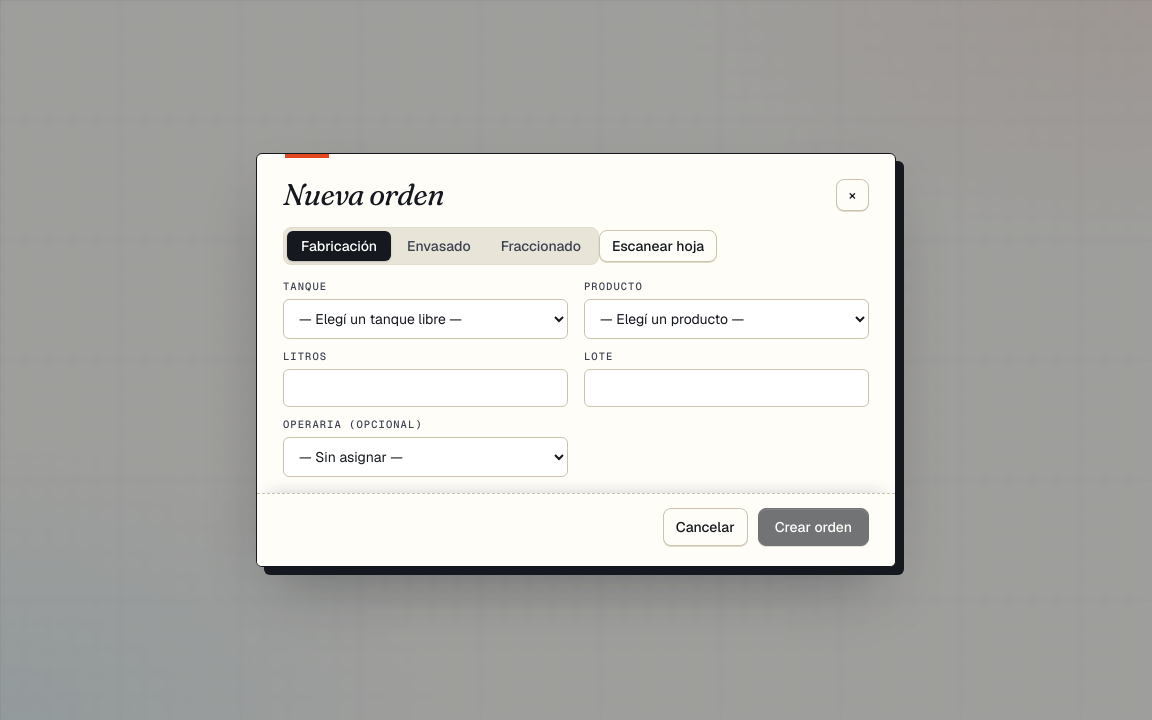
Test: NuevaOrden · fabricación › tanque ocupado por otra orden: mensaje humano
This screenshot has width=1152, height=720.
Select "T-01 · 2000 L" in the dropdown labelled "Tanque" at point(426, 319), box x1=283 y1=299 x2=568 y2=339
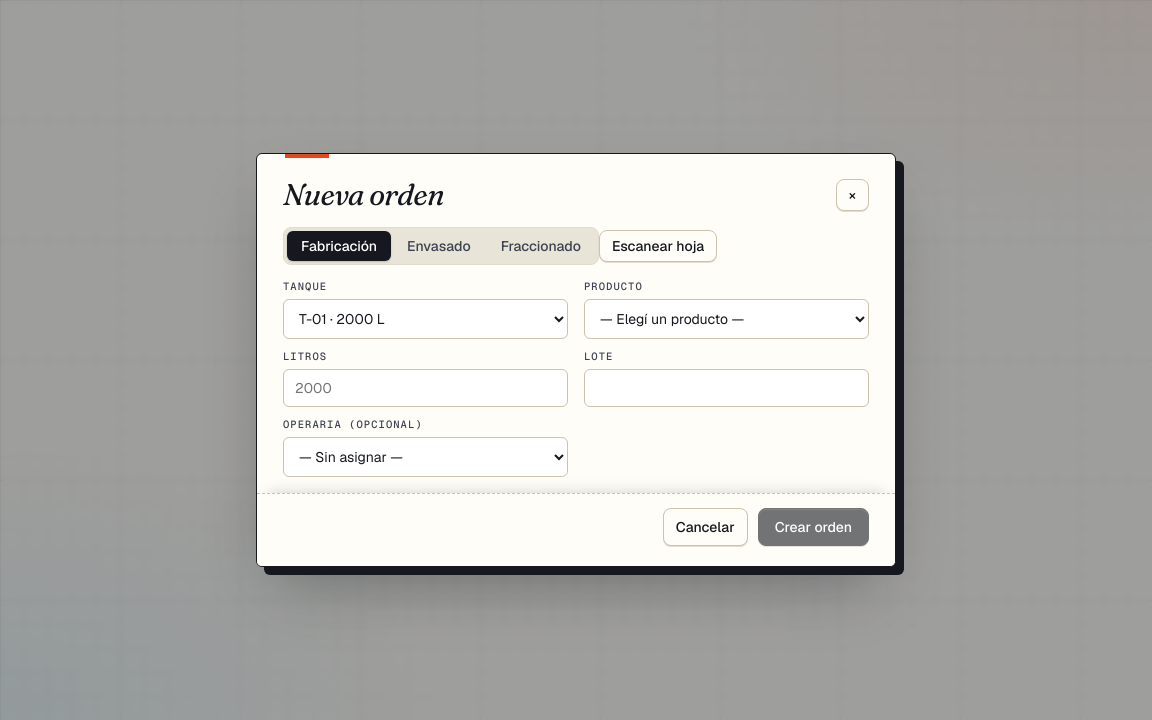
Select "Lavandina" in the dropdown labelled "Producto" at point(726, 319), box x1=584 y1=299 x2=869 y2=339
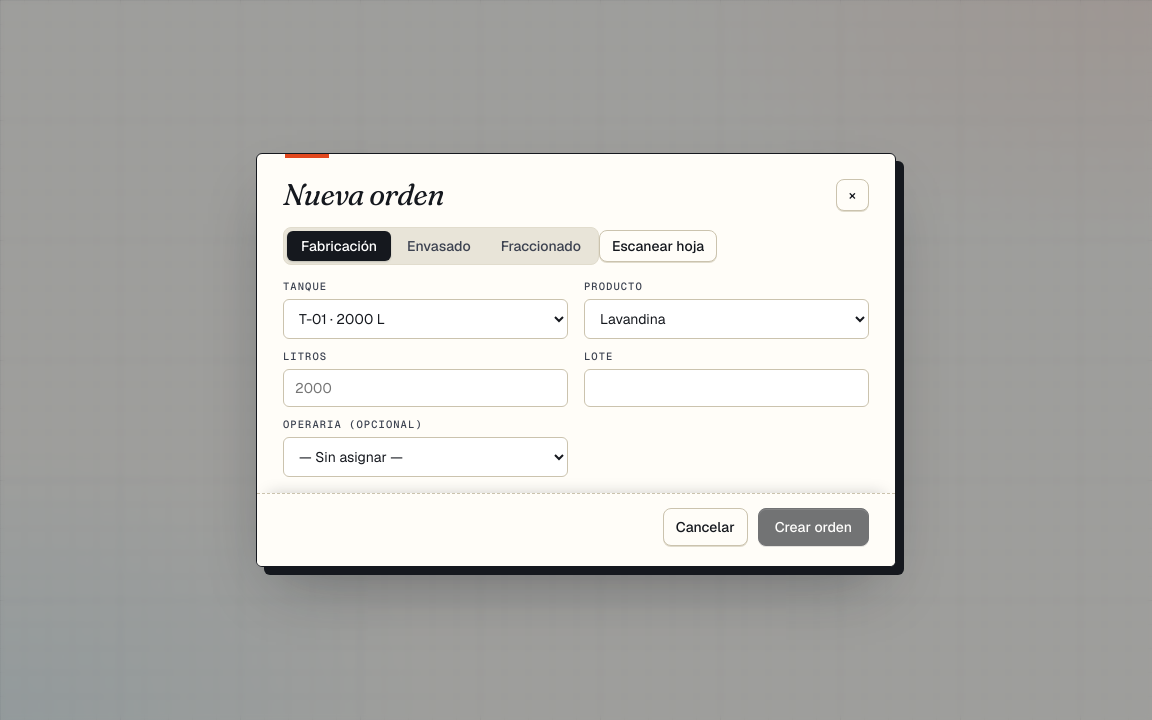
Type "1200" into the number field labelled "Litros" at point(426, 388), box x1=283 y1=369 x2=568 y2=407
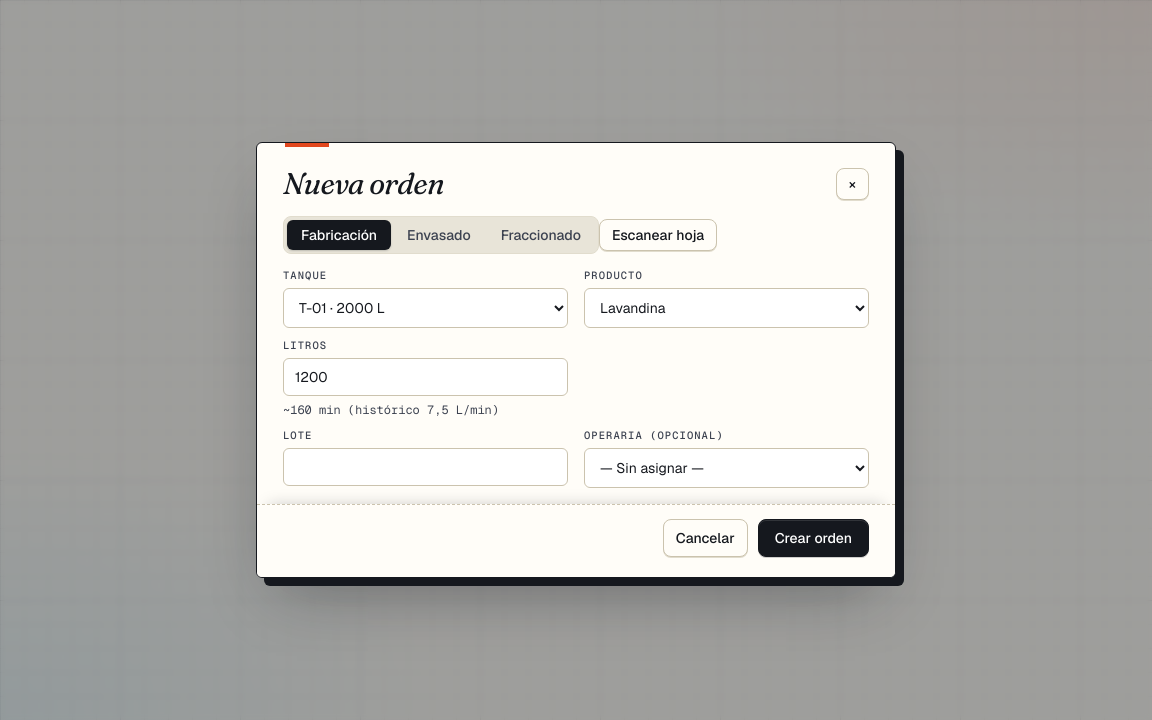
Click the button "Crear orden" at point(813, 538), box x1=758 y1=519 x2=869 y2=557
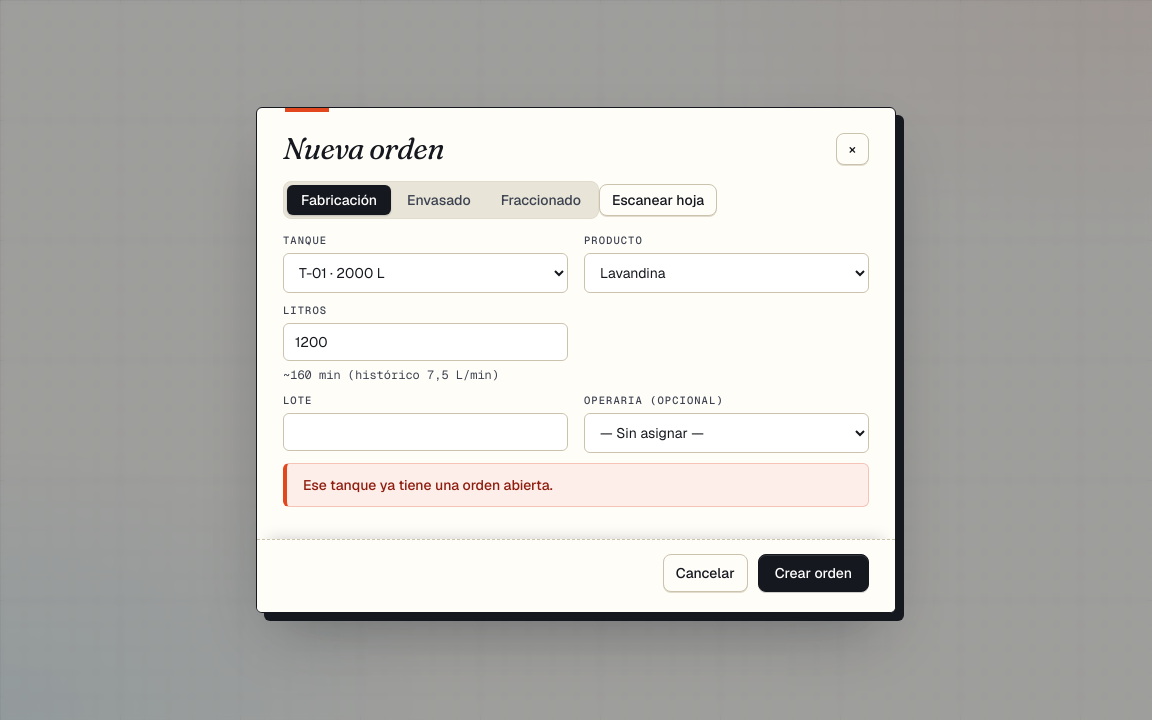
Check: the message reads "Ese tanque ya tiene una orden abierta.", box x1=303 y1=476 x2=553 y2=494
